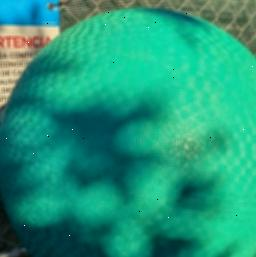algae: (0, 9, 256, 257)
